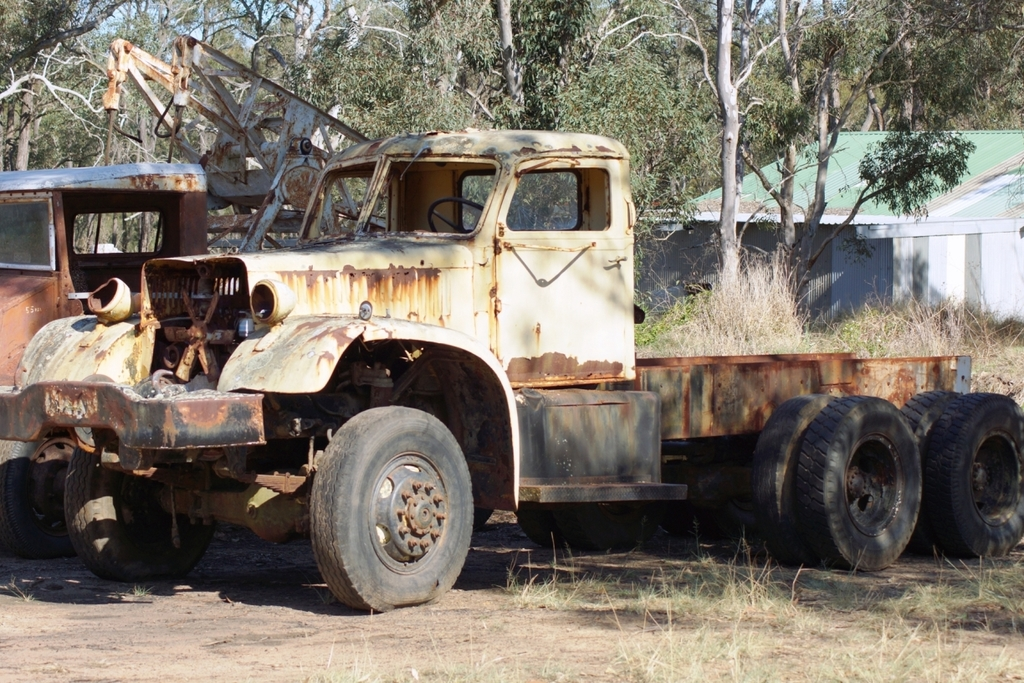Tree: (0, 0, 1023, 369)
